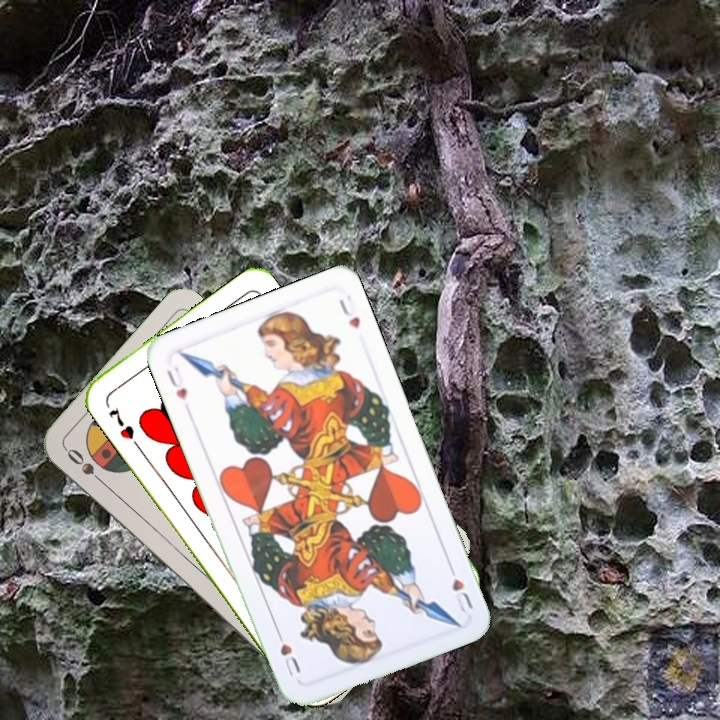H7: (104, 403, 137, 442)
HU: (444, 559, 476, 615), (163, 362, 190, 403)
SO: (61, 444, 110, 489)
